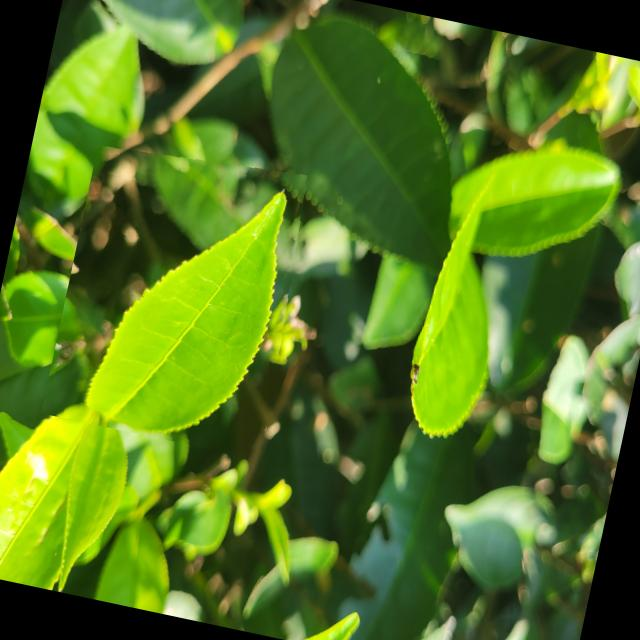Catagory A(1-2 days): (39, 131, 320, 460)
